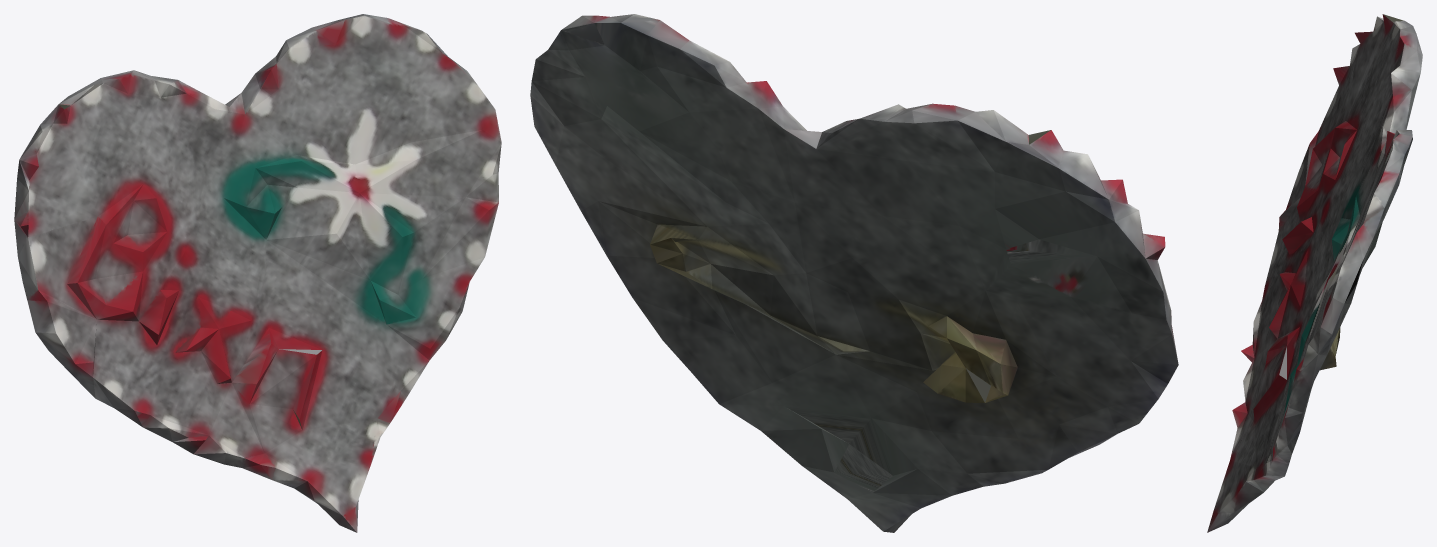
Rendered from D245F8C1-1FE3-3545-A86A-FEE1E8B29CF0_512.glb.
3 views of the same model, side by side, from view 1: azimuth 30°, elevation 25°; view 2: azimuth 150°, elevation 25°; view 3: azimuth 270°, elevation 25° (orthographic). The views are drawn at different scales.
Visible parts, largest first — view 1: Filzherz_1k; view 2: Filzherz_1k; view 3: Filzherz_1k.
Part boxes in pixels (bbox=[...]): Filzherz_1k: bbox=[14, 14, 501, 532]; Filzherz_1k: bbox=[530, 14, 1178, 532]; Filzherz_1k: bbox=[1207, 14, 1422, 532].
Bounding box in the file's own units: 0.0689 × 0.0591 × 0.0267.
Materials: 1 (1 with a texture image).
